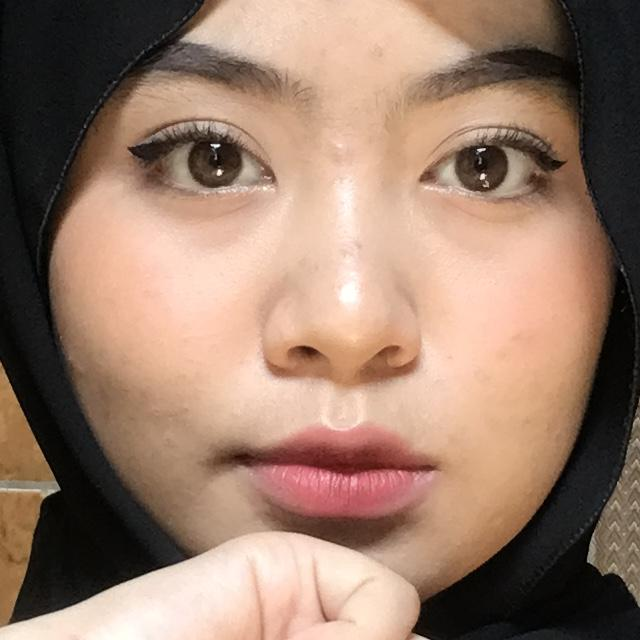sedih: (0, 446, 570, 640)
